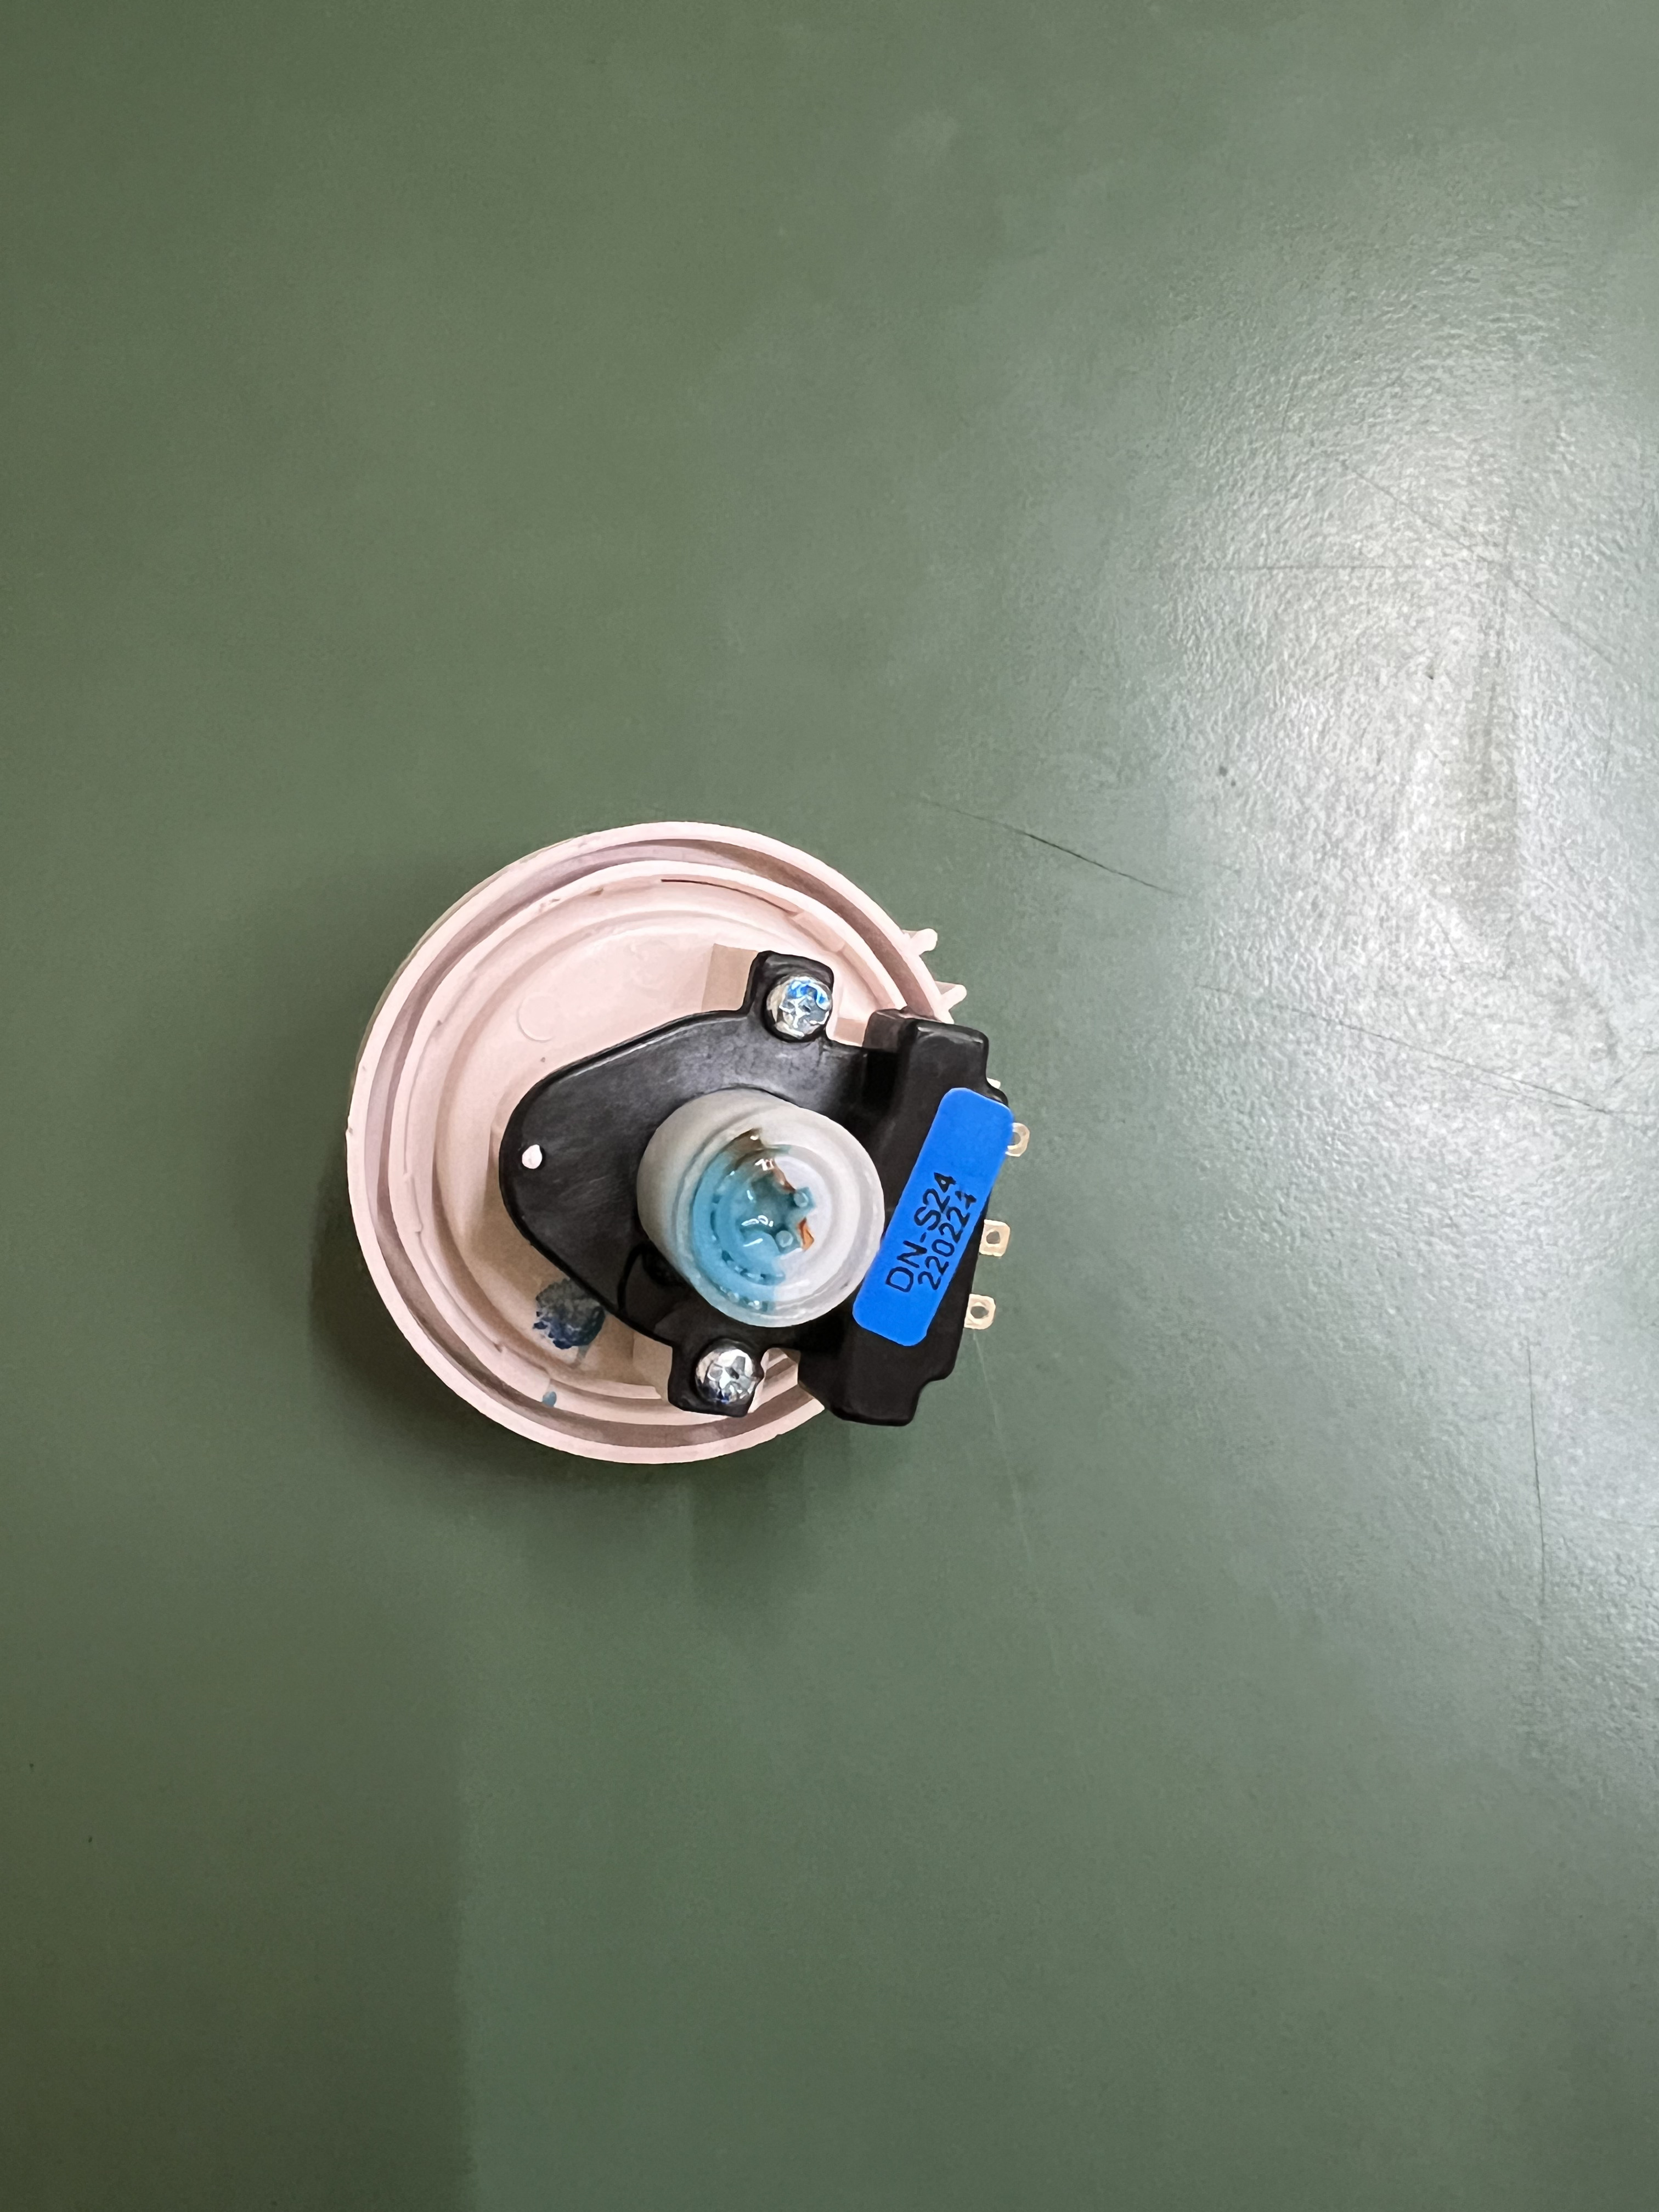pressure_sensor: (310, 831, 1051, 1510)
